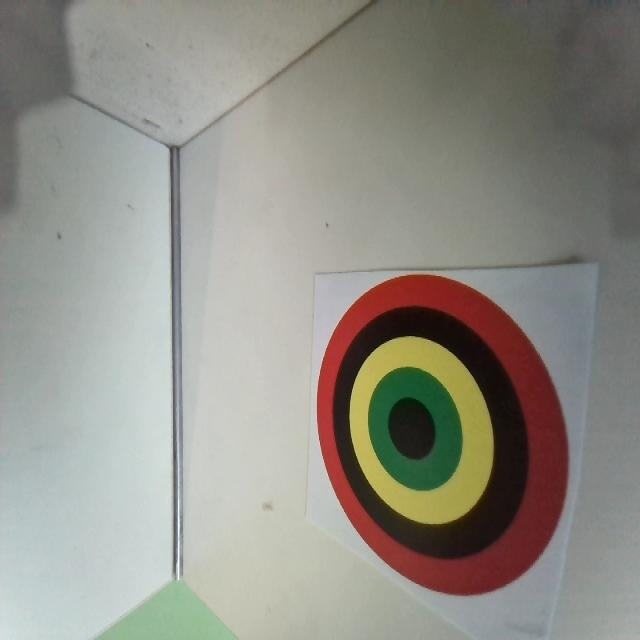cogn: (313, 270, 569, 598)
